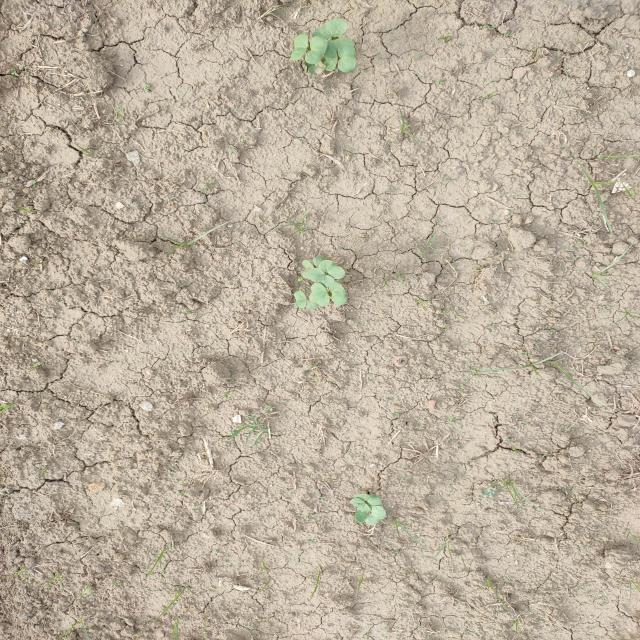seedling: (312, 18, 347, 39), (304, 35, 327, 64), (337, 45, 357, 72), (318, 260, 345, 280), (307, 268, 334, 287), (291, 33, 308, 61), (328, 282, 347, 306), (311, 283, 330, 307), (365, 505, 386, 525), (327, 38, 355, 52), (323, 47, 338, 71), (356, 493, 382, 505), (350, 498, 371, 512), (309, 60, 326, 76), (294, 290, 307, 308), (306, 293, 318, 310), (355, 508, 368, 522), (312, 256, 327, 268)
